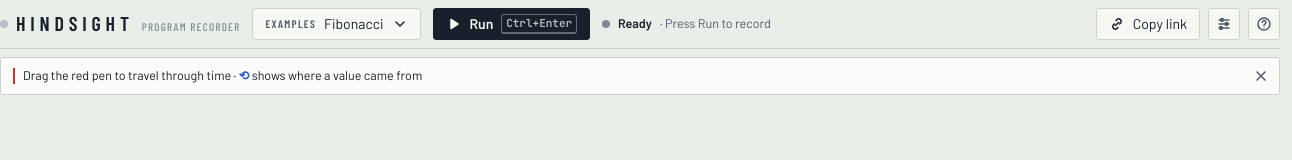
Test: Header › Run records the program and the status reports progress, then the result
Click the button "Run Ctrl+Enter".
click(511, 24)  # box [432, 8, 590, 40]
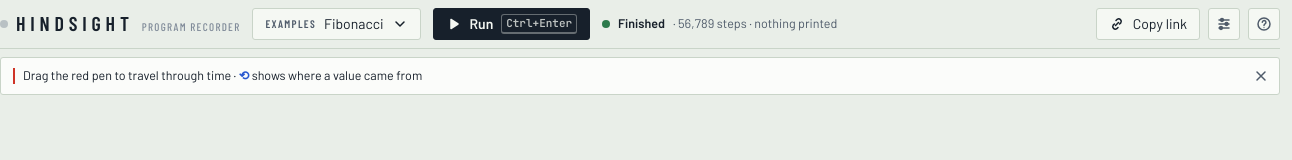
expect the text "Finished" is shown: met, box [618, 15, 665, 33]
expect the text "· 56,789 steps · nothing printed" is shown: met, box [673, 15, 837, 33]
